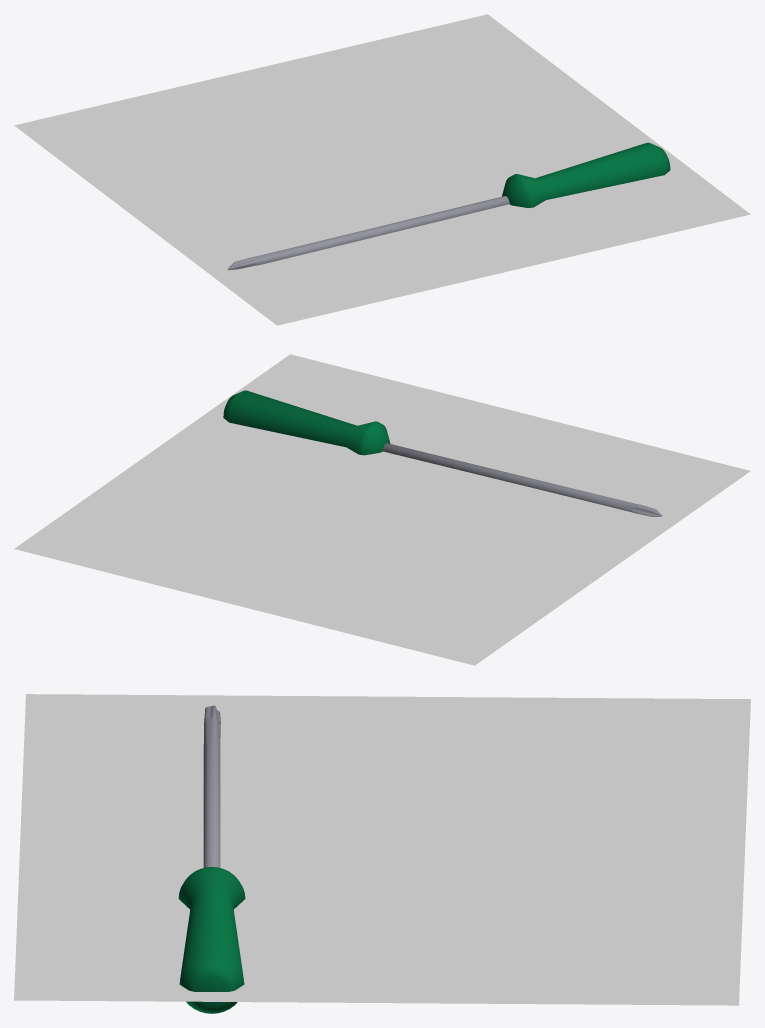
Rendered from chave_philips.fbx.
The picture shows the model from 3 angles, top to bottom: view 1: azimuth 30°, elevation 25°; view 2: azimuth 150°, elevation 25°; view 3: azimuth 270°, elevation 25°; orthographic projection. The views are drawn at different scales.
Visible parts, largest first — view 1: Plane, Cylinder; view 2: Plane, Cylinder; view 3: Plane, Cylinder.
Boxes of the visible parts, box(x1,y1,x2,y2) form: Plane: box(14, 14, 750, 325); Cylinder: box(227, 142, 670, 270); Plane: box(14, 354, 750, 665); Cylinder: box(223, 390, 662, 516); Plane: box(14, 694, 750, 1005); Cylinder: box(178, 705, 245, 1013).
Size of the model in its own units: 6.41 by 0.5822 by 6.41.
